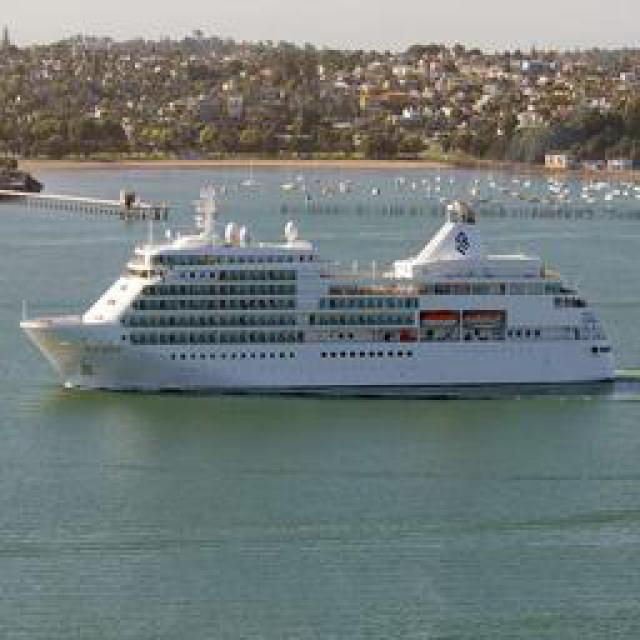Ship: (31, 188, 629, 403)
